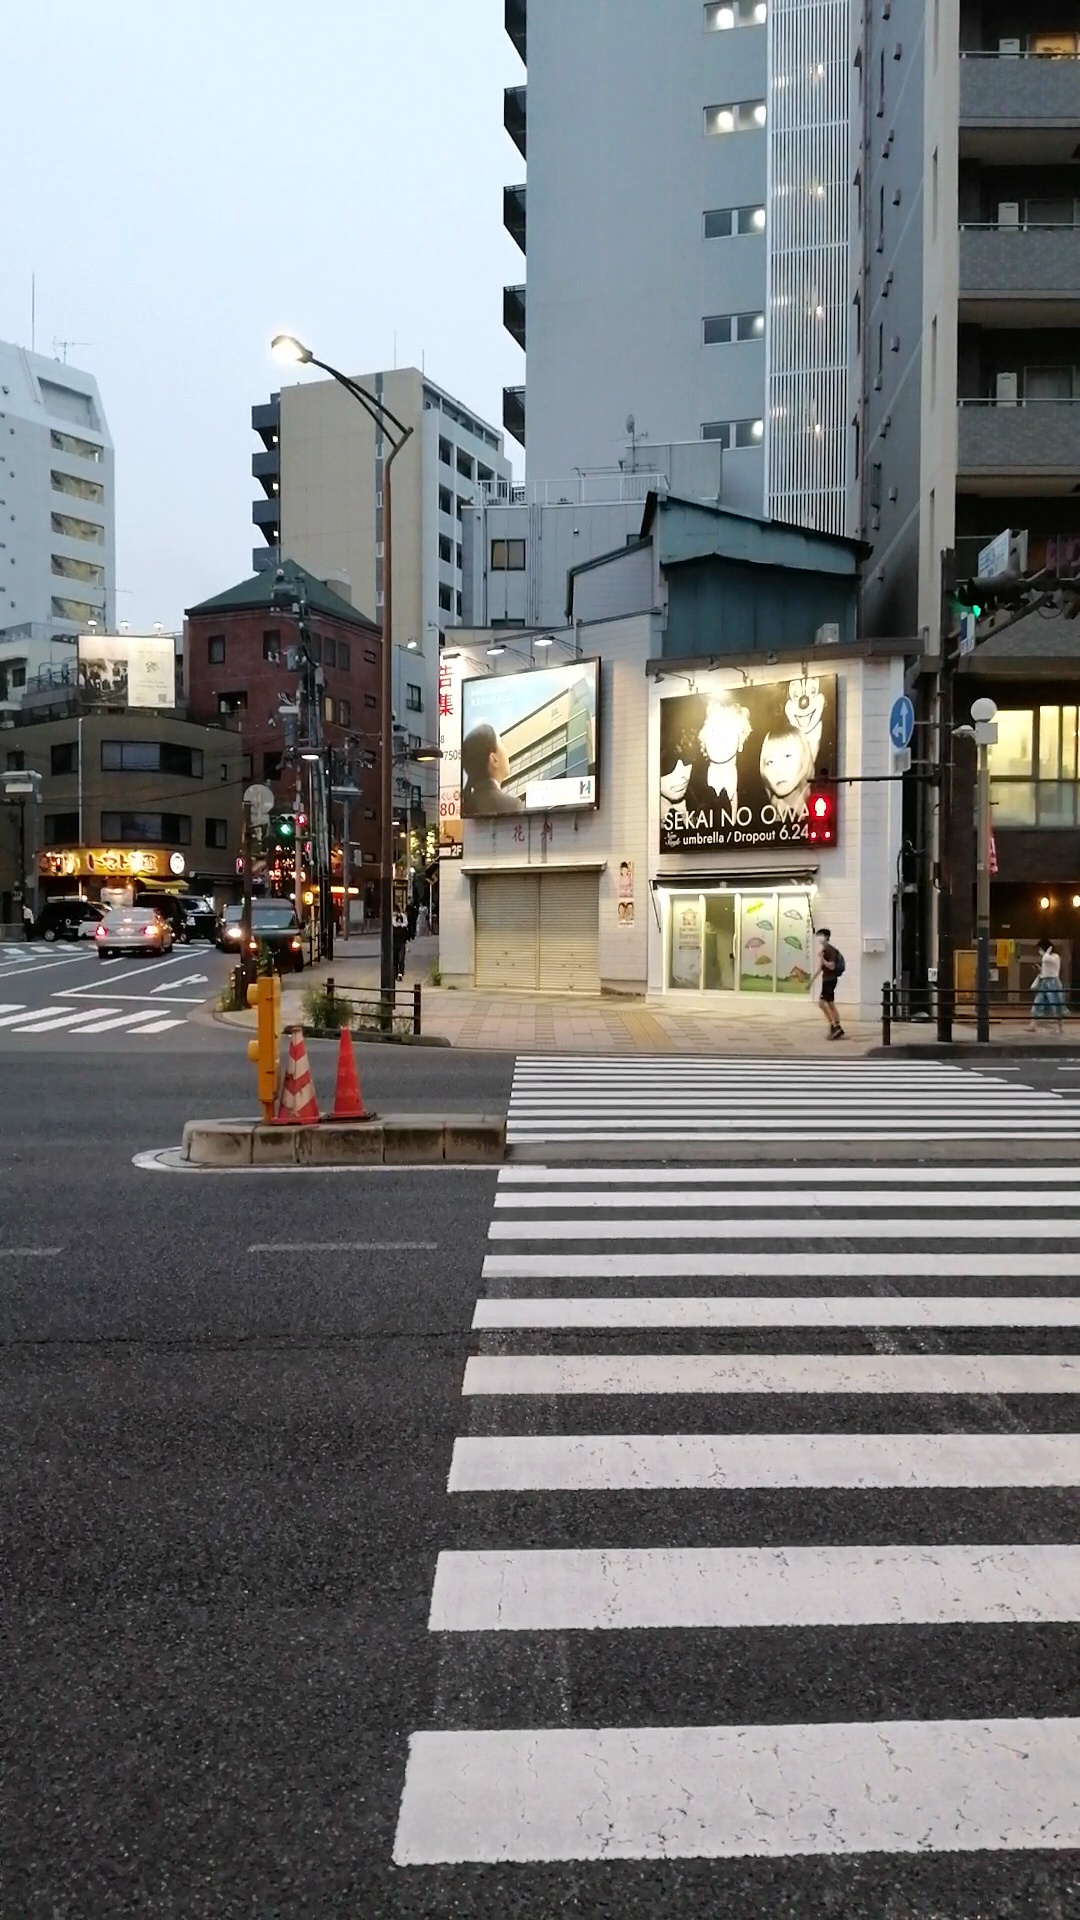red: (804, 793, 833, 845)
